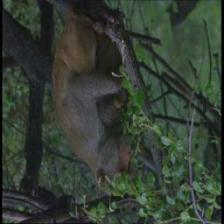monkey: (94, 136, 136, 192), (98, 94, 129, 130)
